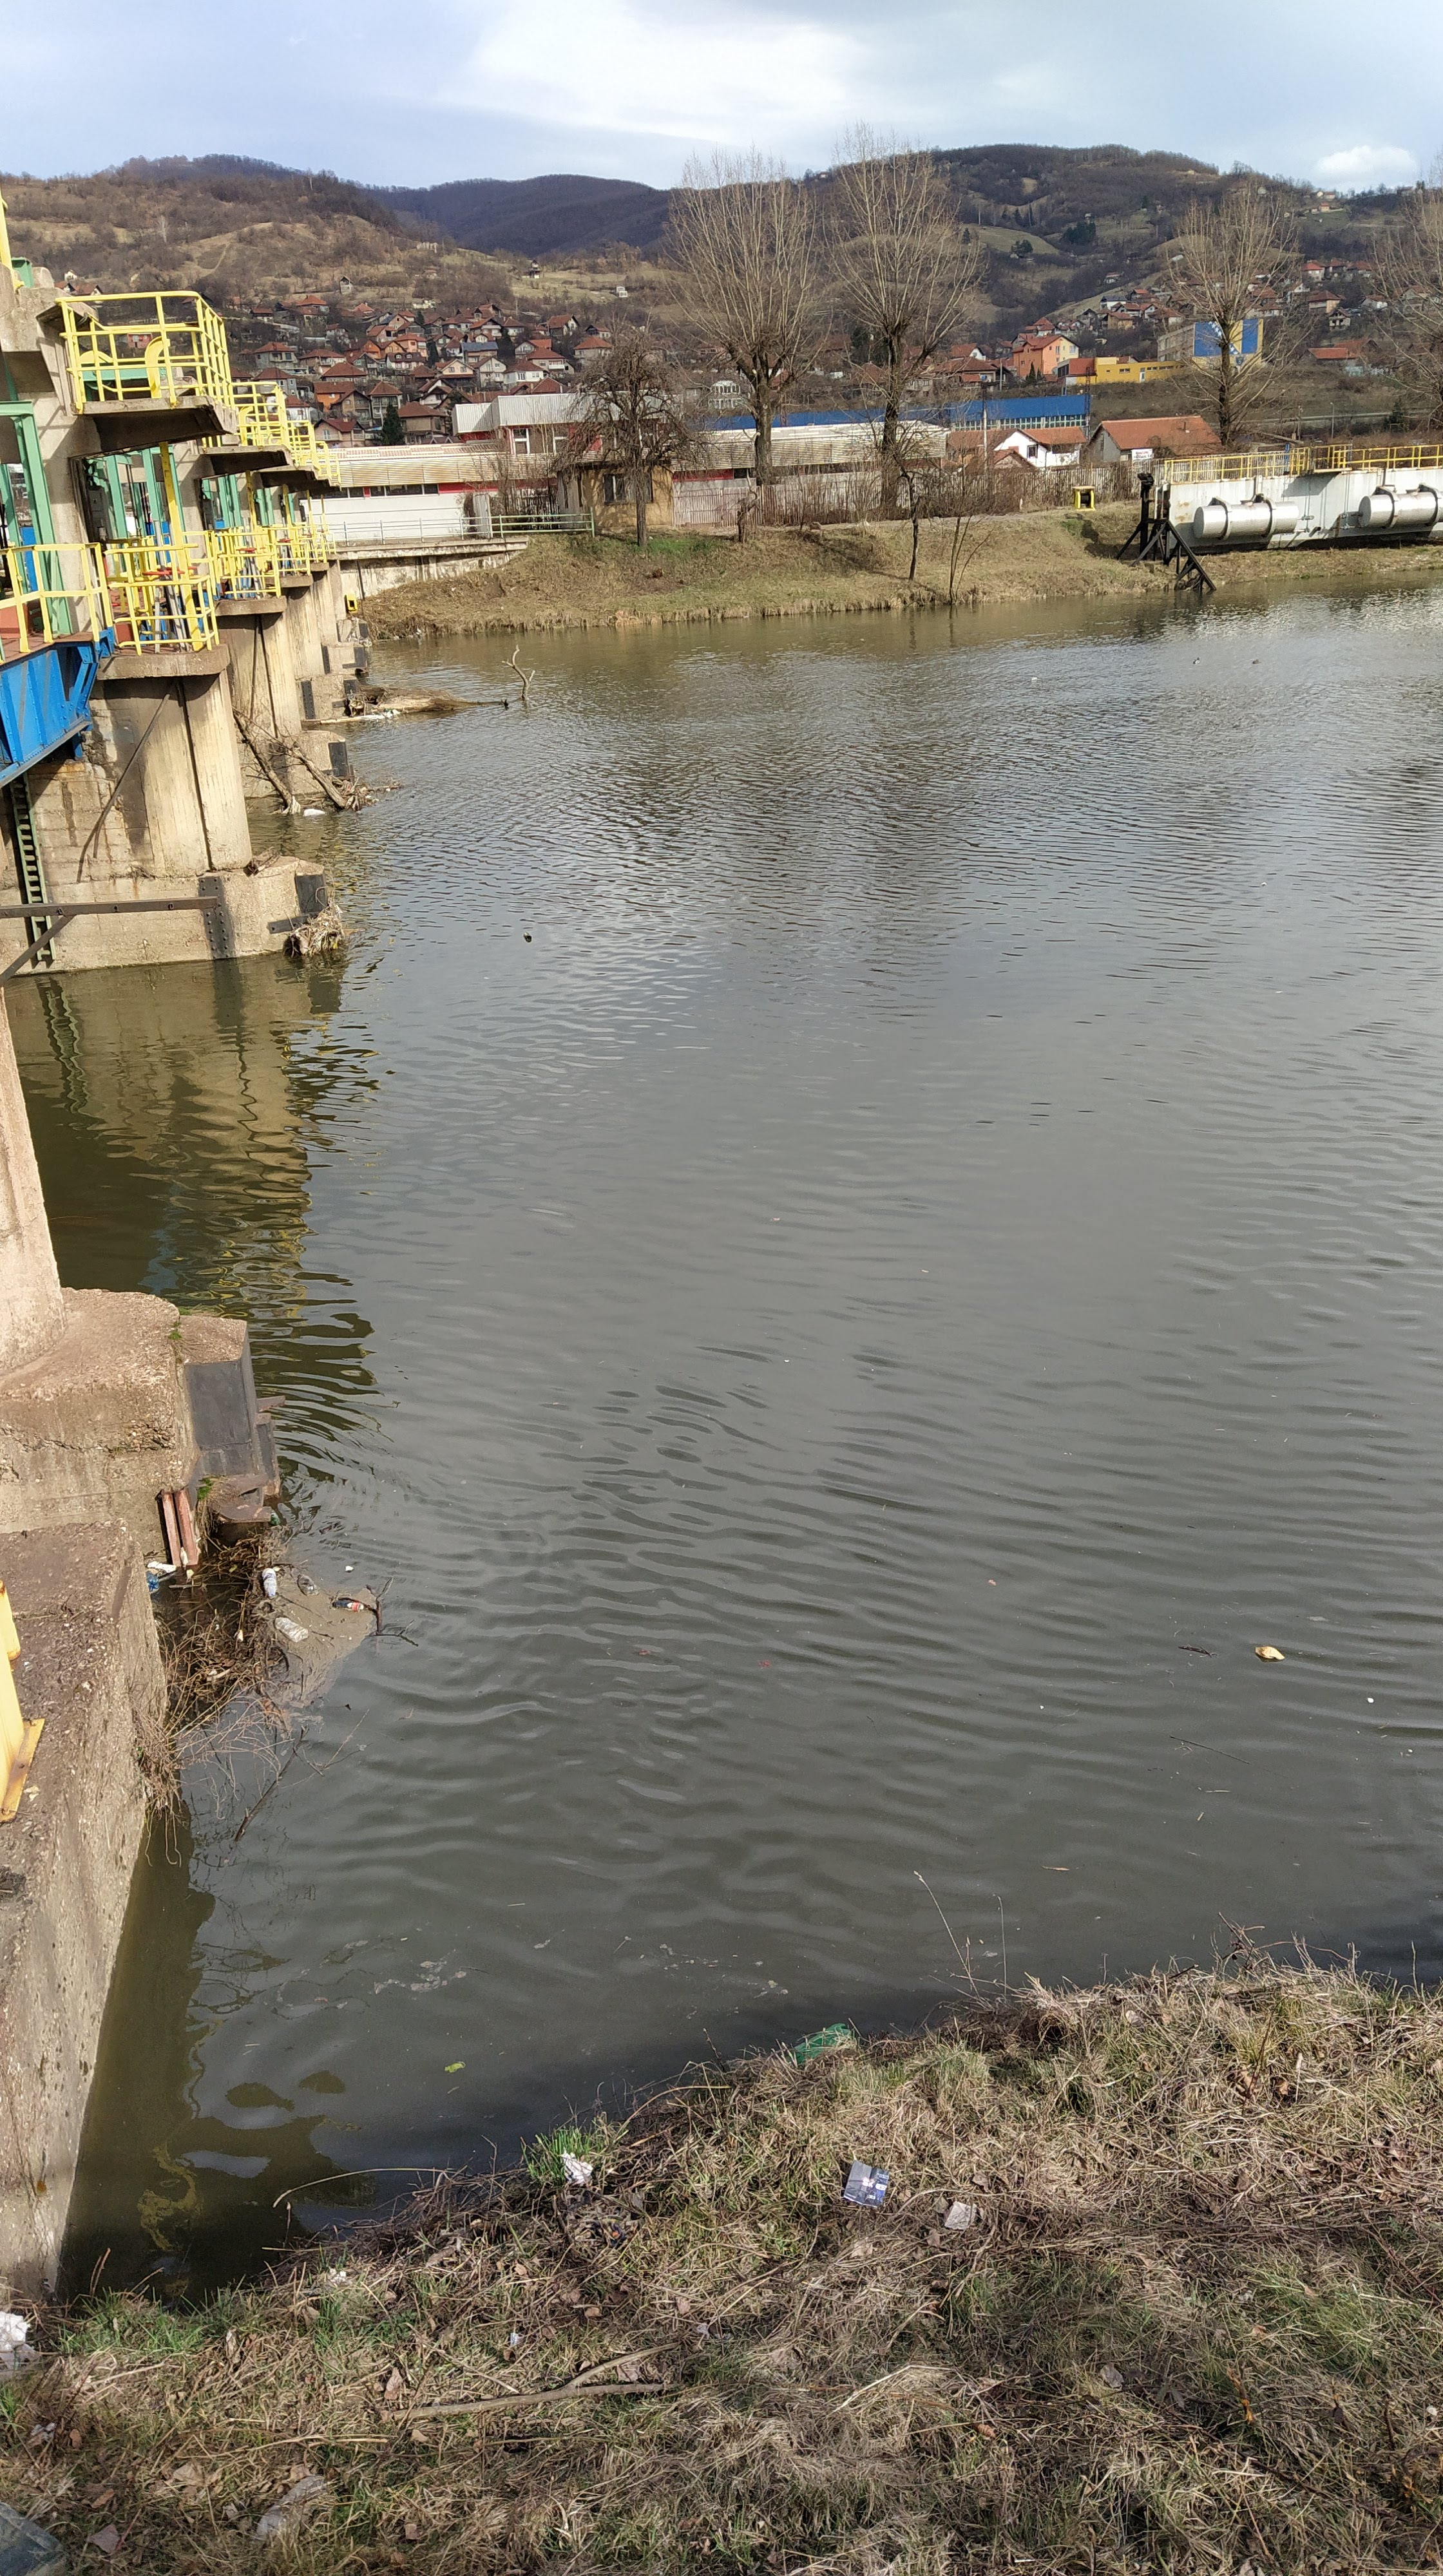Plastic Bottle: (784, 2022, 852, 2063), (274, 1615, 306, 1642), (262, 1568, 276, 1599), (297, 1575, 319, 1596), (333, 1599, 365, 1610), (145, 1571, 159, 1592), (522, 931, 531, 941), (1032, 678, 1036, 679)
